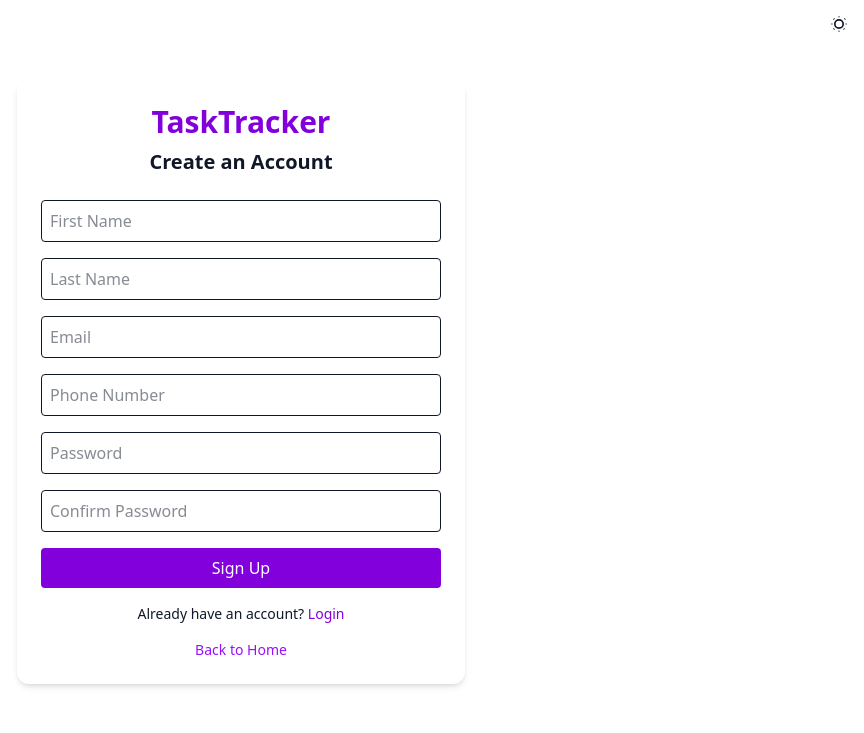
Test: SignupPage › shows client-side validation error for short password
This screenshot has width=864, height=733.
Type "Test" into the field with placeholder "First Name" at (241, 221), box [41,200,441,242]
Type "User" into the field with placeholder "Last Name" at (241, 279), box [41,258,441,300]
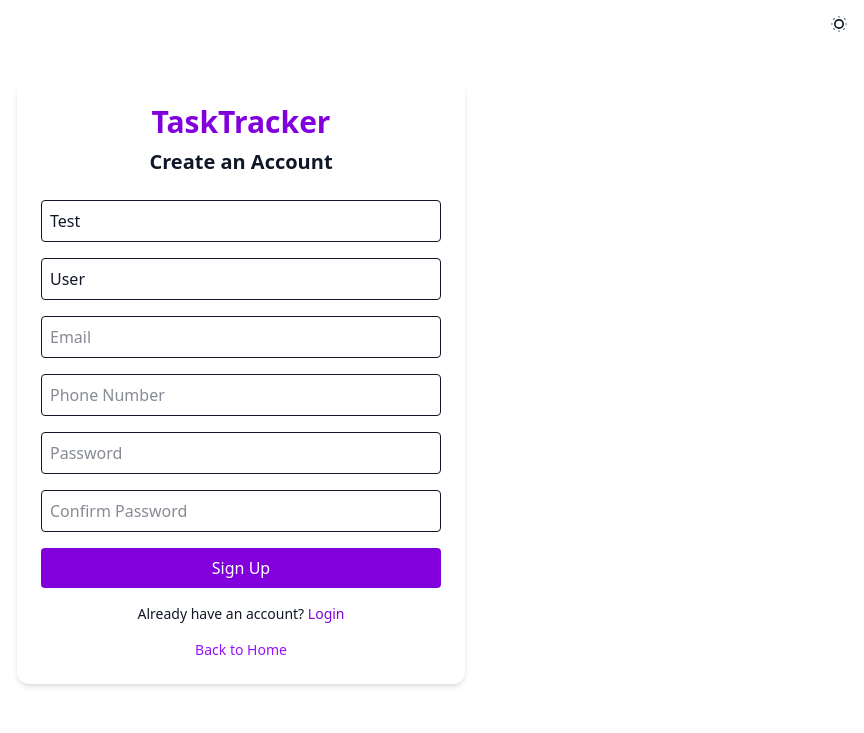
Type "test@example.com" into the field with placeholder "Email" at (241, 337), box [41,316,441,358]
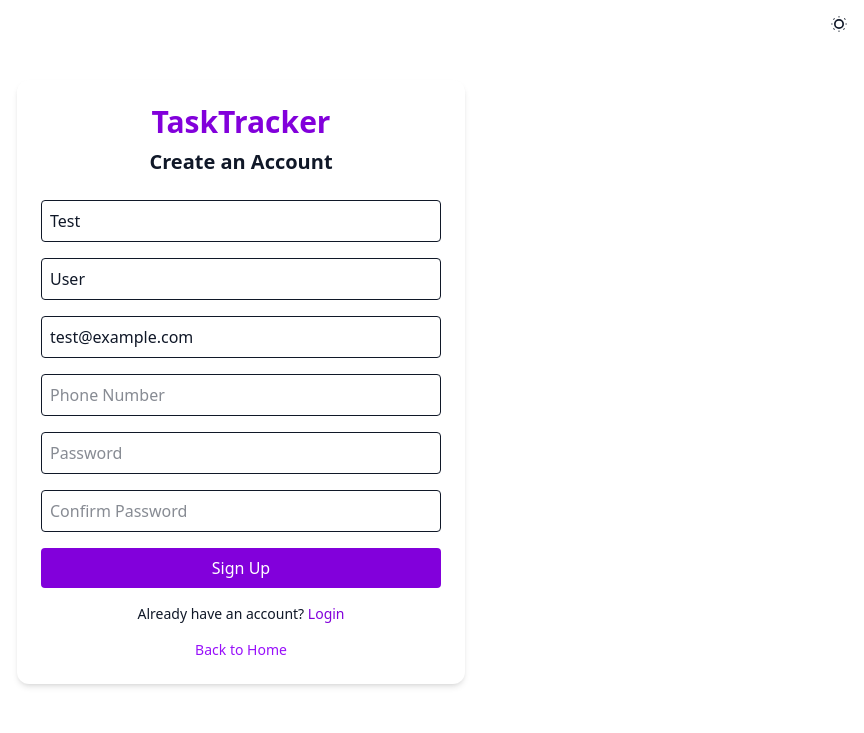
Type "1234567890" into the field with placeholder "Phone Number" at (241, 395), box [41,374,441,416]
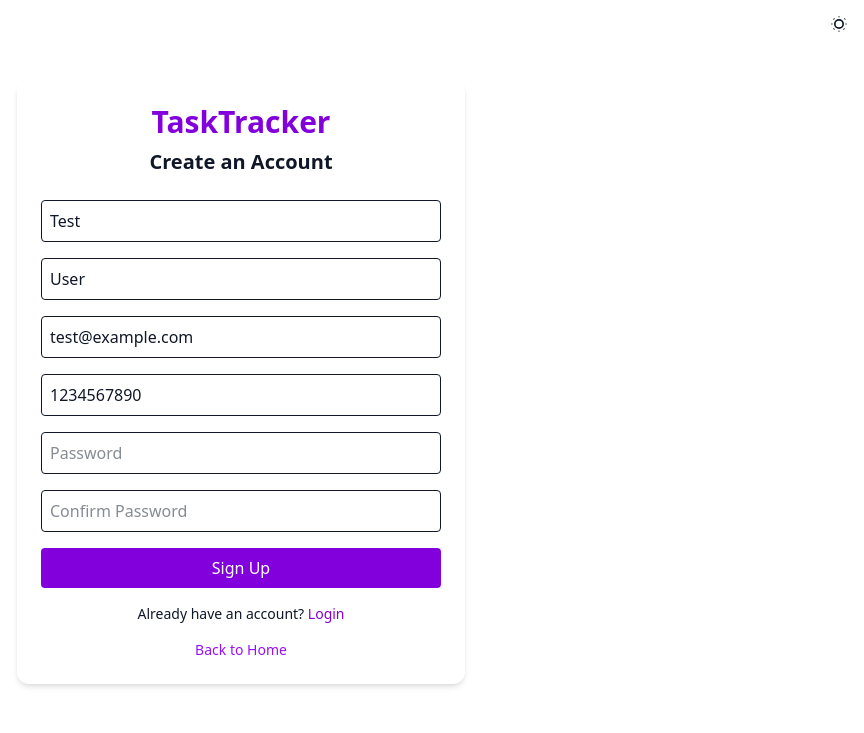
Type "short" into the password field with placeholder "Password" at (241, 453), box [41,432,441,474]
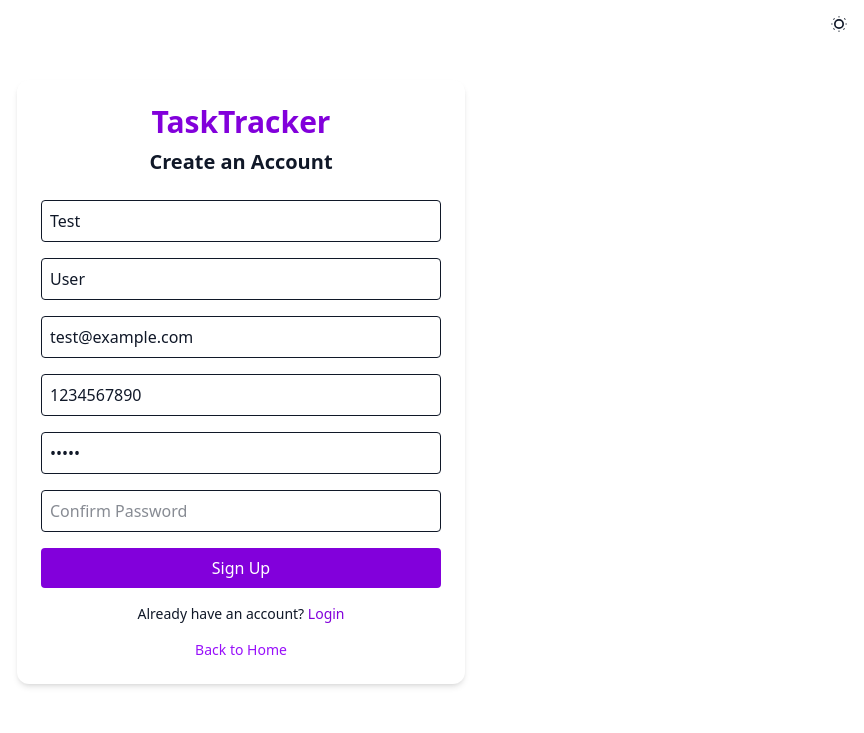
Type "short" into the password field with placeholder "Confirm Password" at (241, 511), box [41,490,441,532]
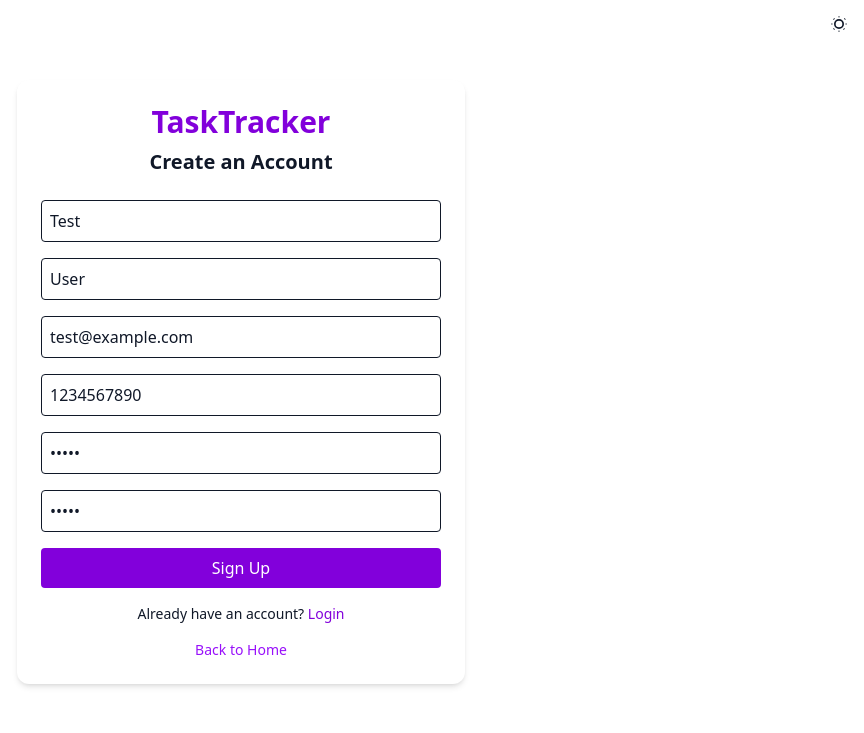
Submit the form "Sign Up Already have an account? Login", box [41,200,441,624]
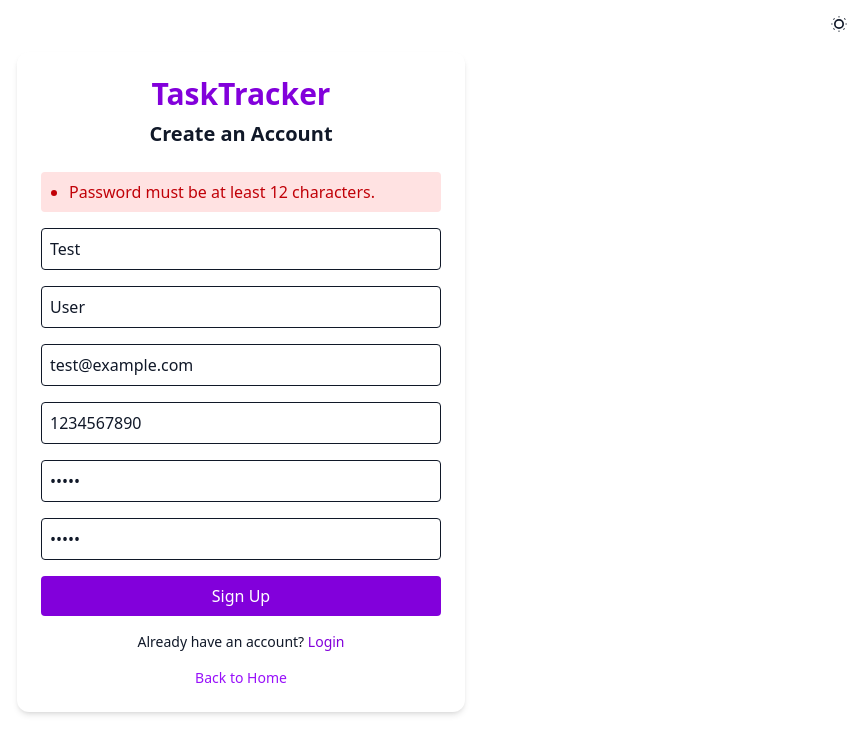
Now the list item "Password must be at least 12 characters." is shown, box [69,181,375,203]
